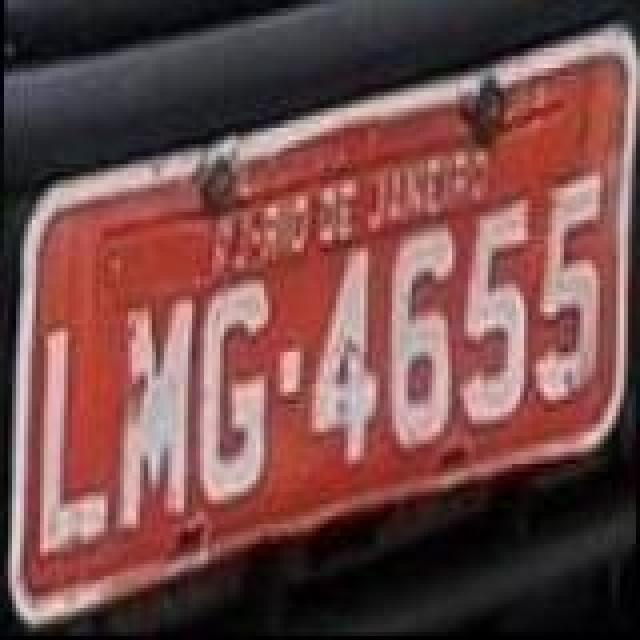4: (308, 244, 380, 468)
5: (530, 166, 606, 406), (458, 196, 534, 432)
6: (388, 226, 460, 458)
G: (194, 276, 274, 516)
L: (42, 324, 114, 564)
M: (114, 298, 194, 542)
